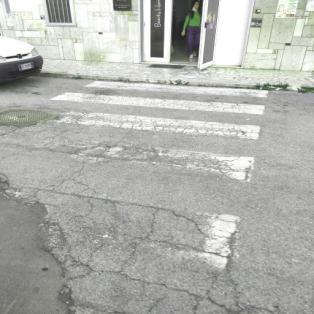Paso de Cebra: (46, 79, 281, 118)
